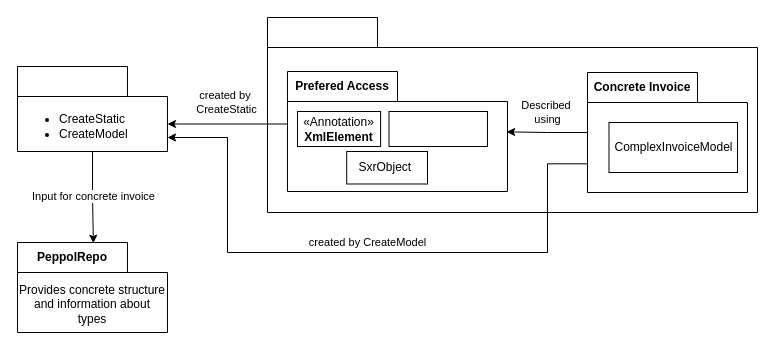
Some shapes in this 775 by 353 pixel diagram are drawn without their labels. The shapes that lost their labels are listed below. From the top down, each one's box as (x1, y1, x2, y2) in pixels, then its label:
(16, 66, 168, 152): SxrResourceParser
(388, 110, 488, 146): «Annotation» XmlAttribute
(266, 16, 758, 212): Sxrjavamodel
